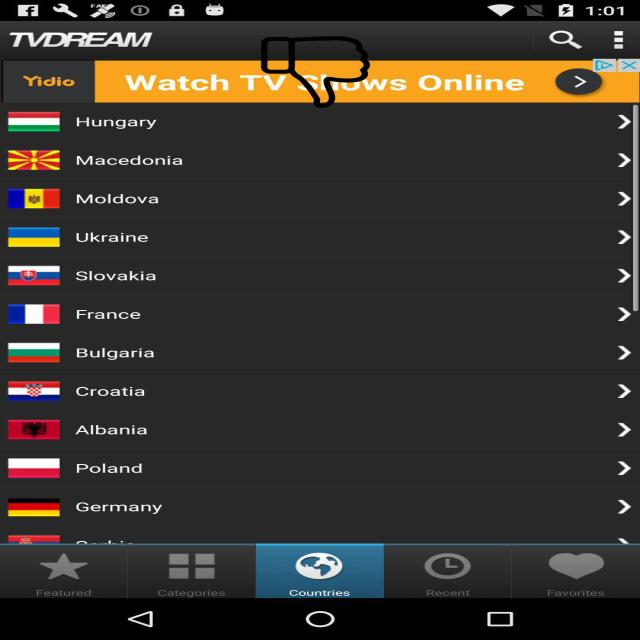obstruction: (260, 36, 372, 108)
